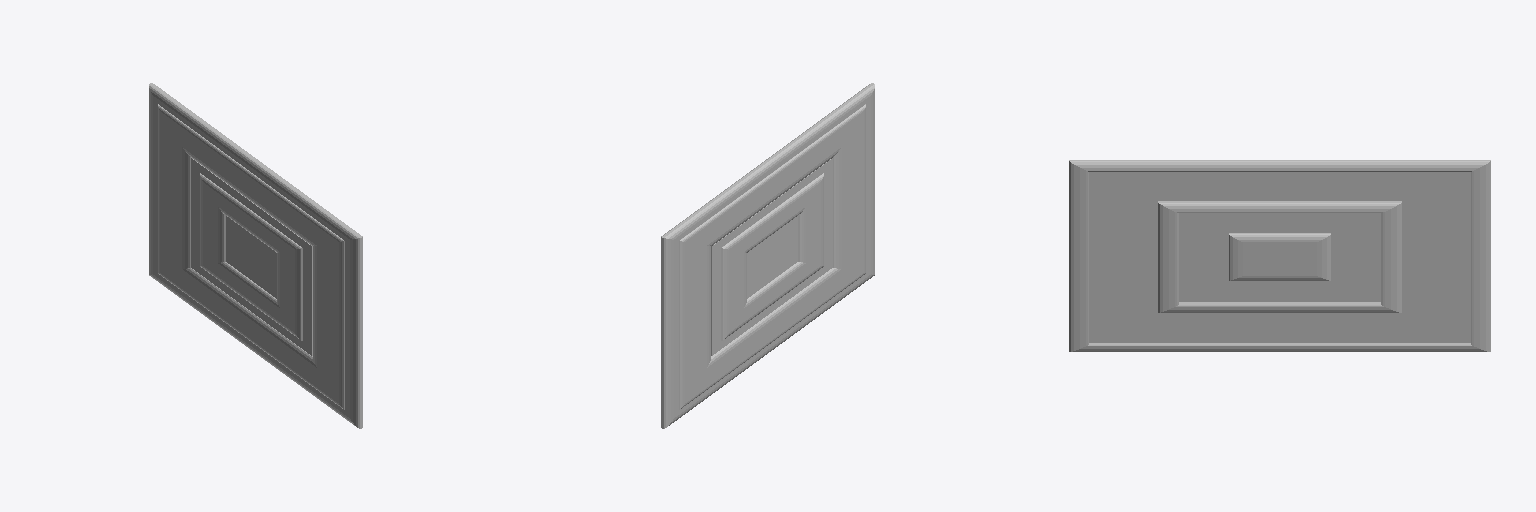
The model's file is coolrect.obj.
The picture shows the model from 3 angles: view 1: azimuth 30°, elevation 25°; view 2: azimuth 150°, elevation 25°; view 3: azimuth 270°, elevation 25°; orthographic projection.
Visible parts, largest first — view 1: Cube_Cube.001; view 2: Cube_Cube.001; view 3: Cube_Cube.001.
Boxes of the visible parts, box(x1,y1,x2,y2) form: Cube_Cube.001: box(149, 83, 362, 428); Cube_Cube.001: box(661, 83, 874, 428); Cube_Cube.001: box(1069, 160, 1490, 351).
Bounding box in the file's own units: 0.1509 × 2 × 4.